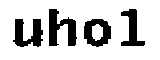1: (117, 6, 149, 48)
h: (47, 5, 78, 50)
o: (81, 18, 112, 48)
u: (9, 15, 46, 50)
